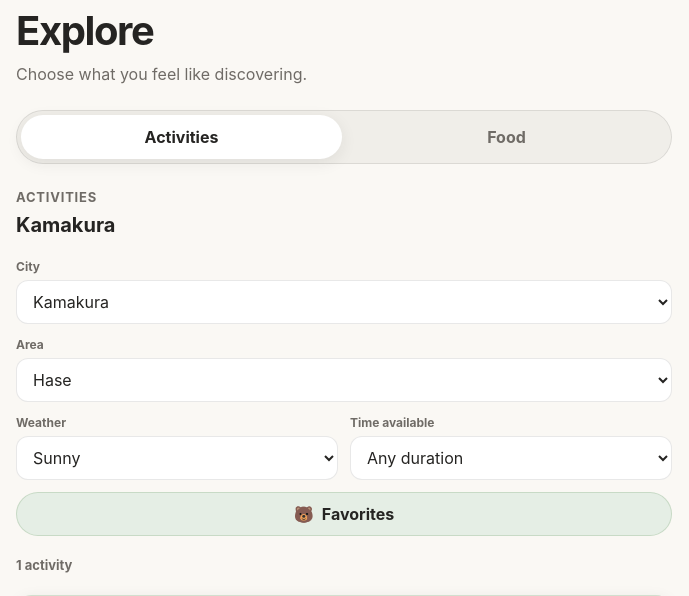
Test: Explore Activities URL controls › changes city without carrying area and preserves valid filters
Select "Hakone" in the dropdown labelled "City" at coordinates (344, 302), box [16,280,672,324]
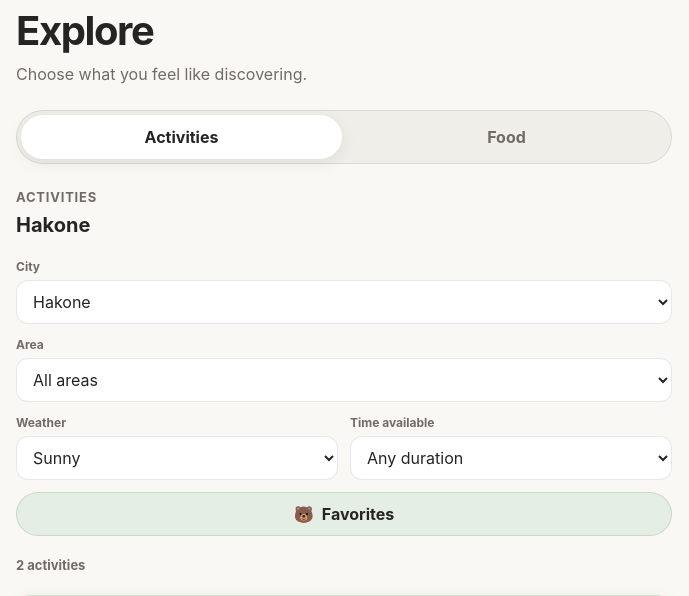
Expected: the heading "Hakone" is shown, [16,212,90,236]
